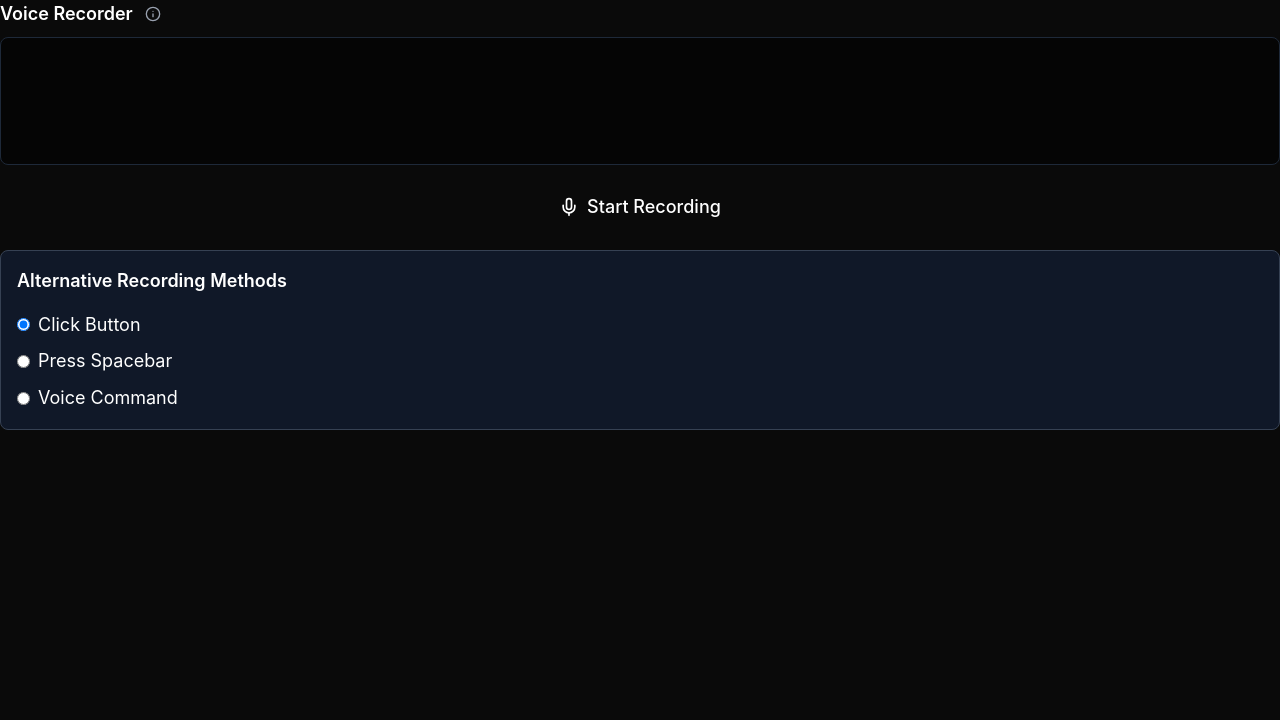
Recorder Component › plays a recorded clip and announces playback state
Click the button with test id "record-button". click: {"x": 640, "y": 207}
box: [535,181,745,234]
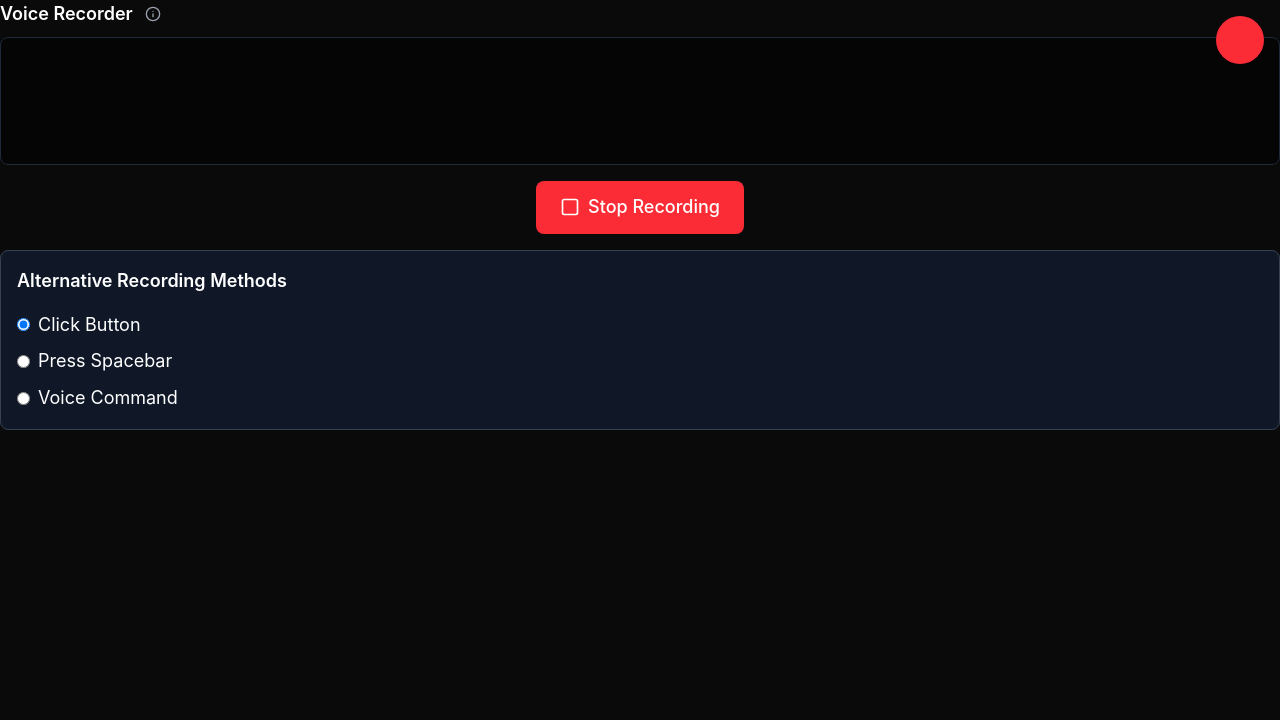
Click the button with test id "stop-button". click: {"x": 640, "y": 207}
box: [536,181,744,234]
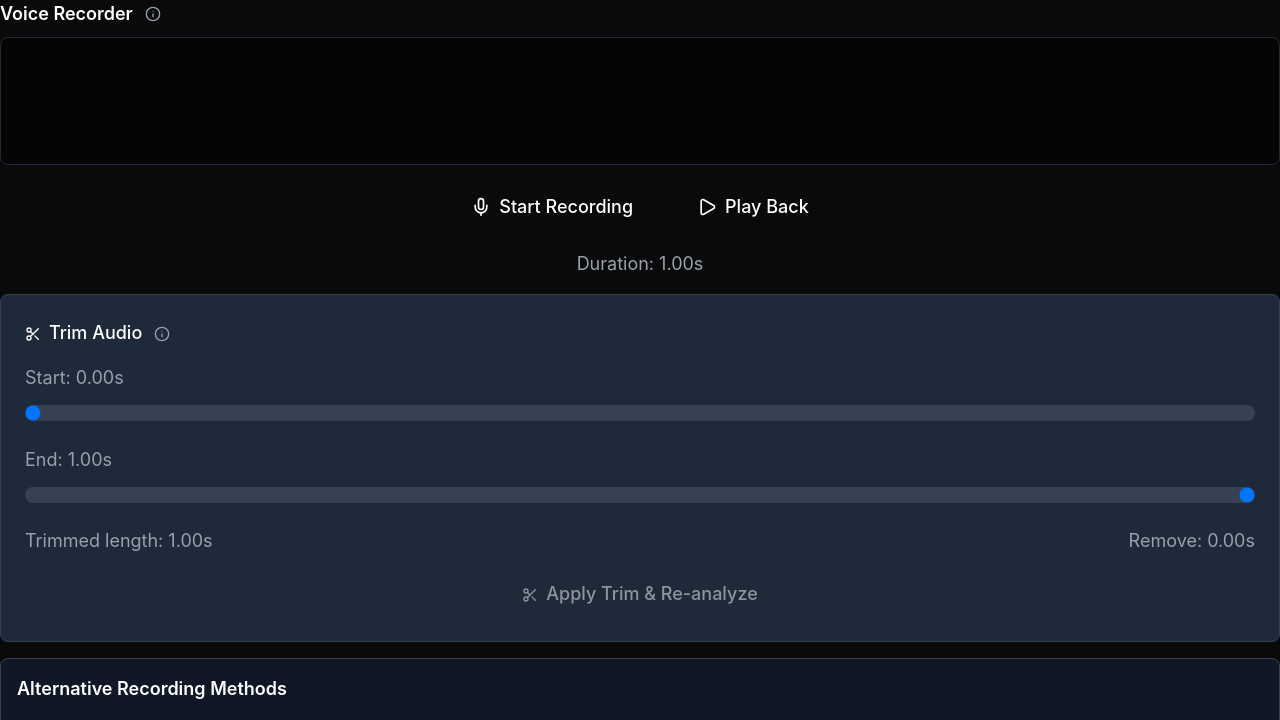
Expected: the button with test id "play-button" is shown
Click the button with test id "play-button". click: {"x": 753, "y": 207}
box: [673,181,833,234]
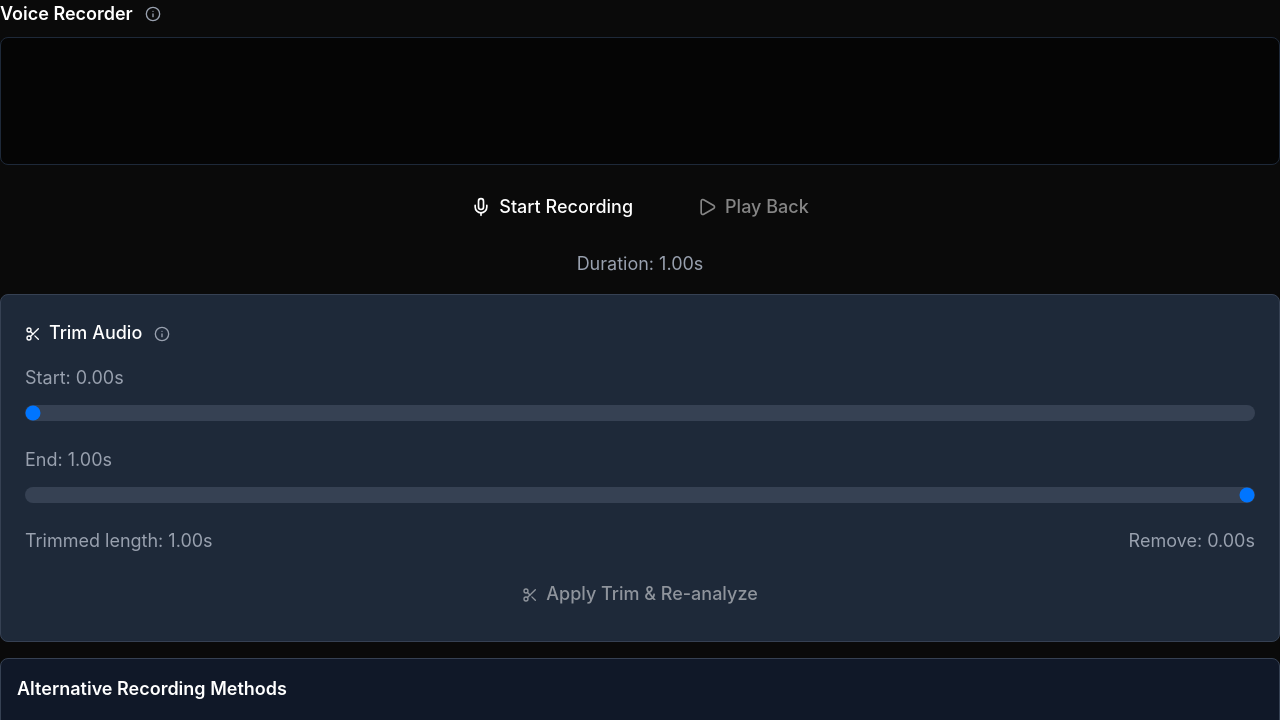
Expected: the button with test id "play-button" is disabled, [673,181,833,234]
